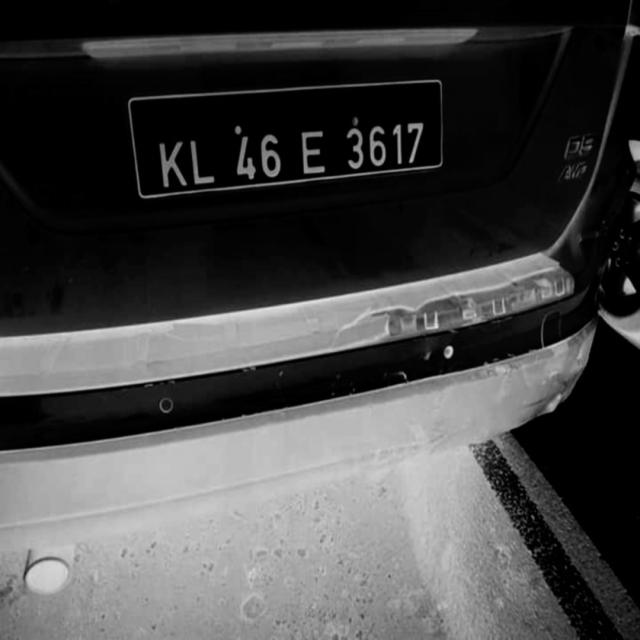Non_registered: (132, 98, 443, 192)
